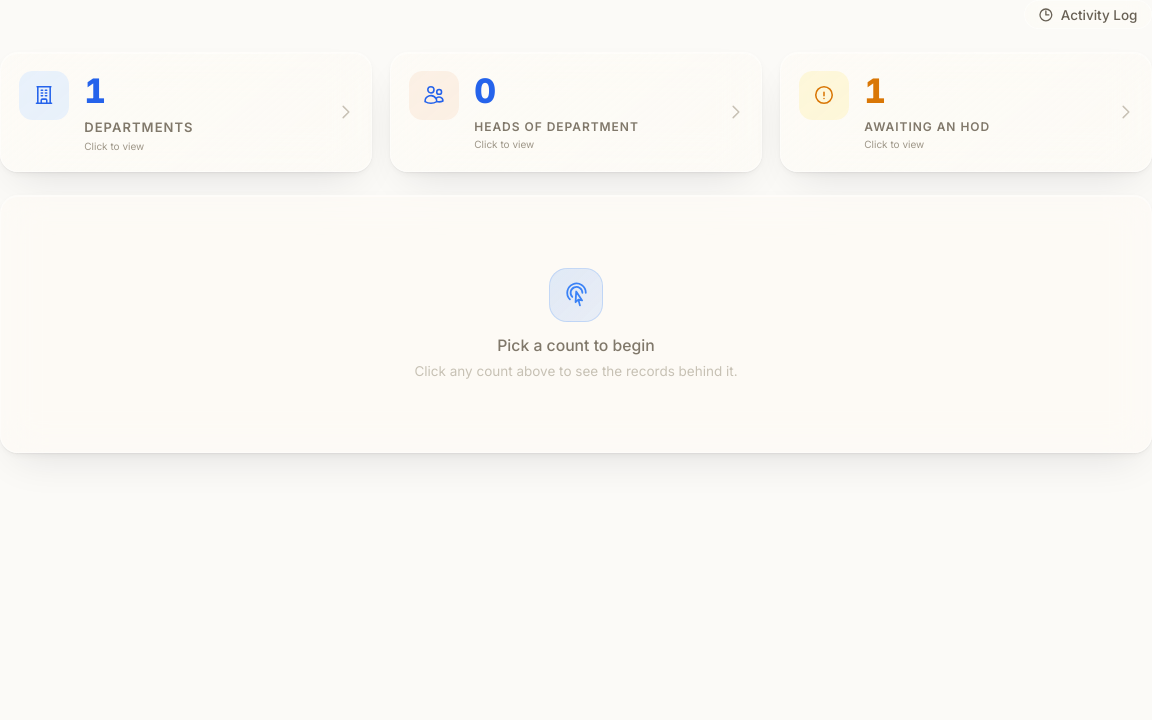
Test: delete department â€” confirmed › reports success in a status banner naming the department
Step 1. Click the button "1 Departments Click to view" → (44, 95), box 0,52 -> 372,172
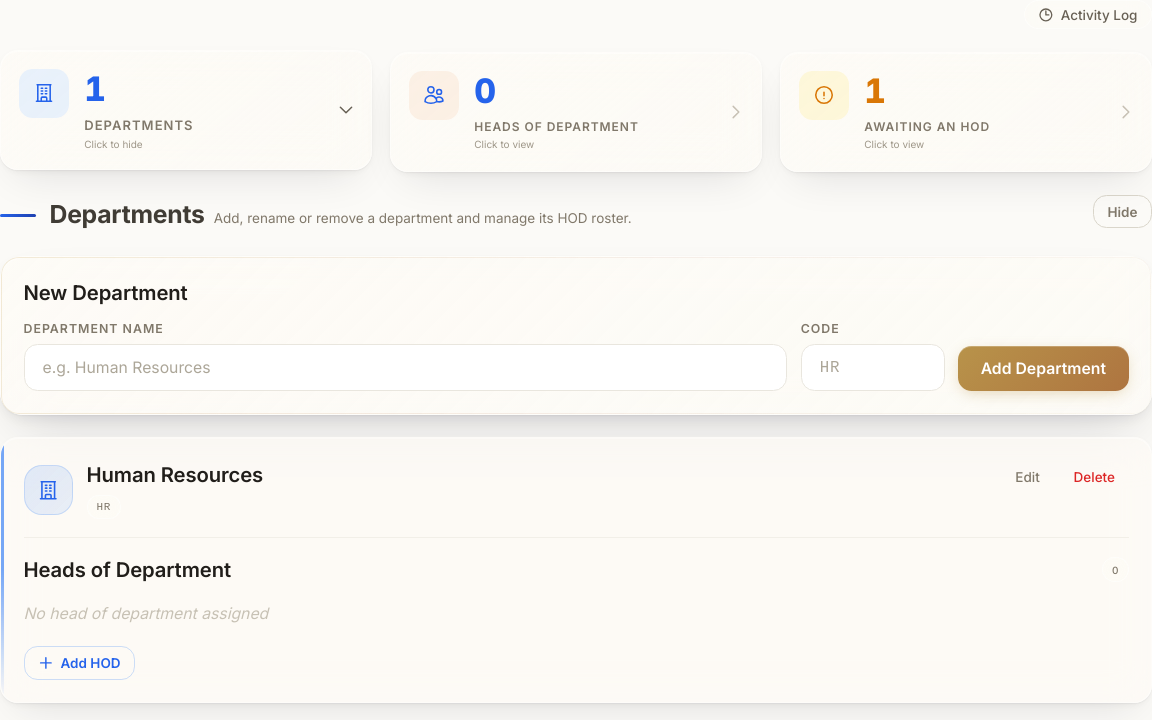
Step 2. Click the button with aria-label "delete human resources" → (1094, 477), box 1060,461 -> 1128,492
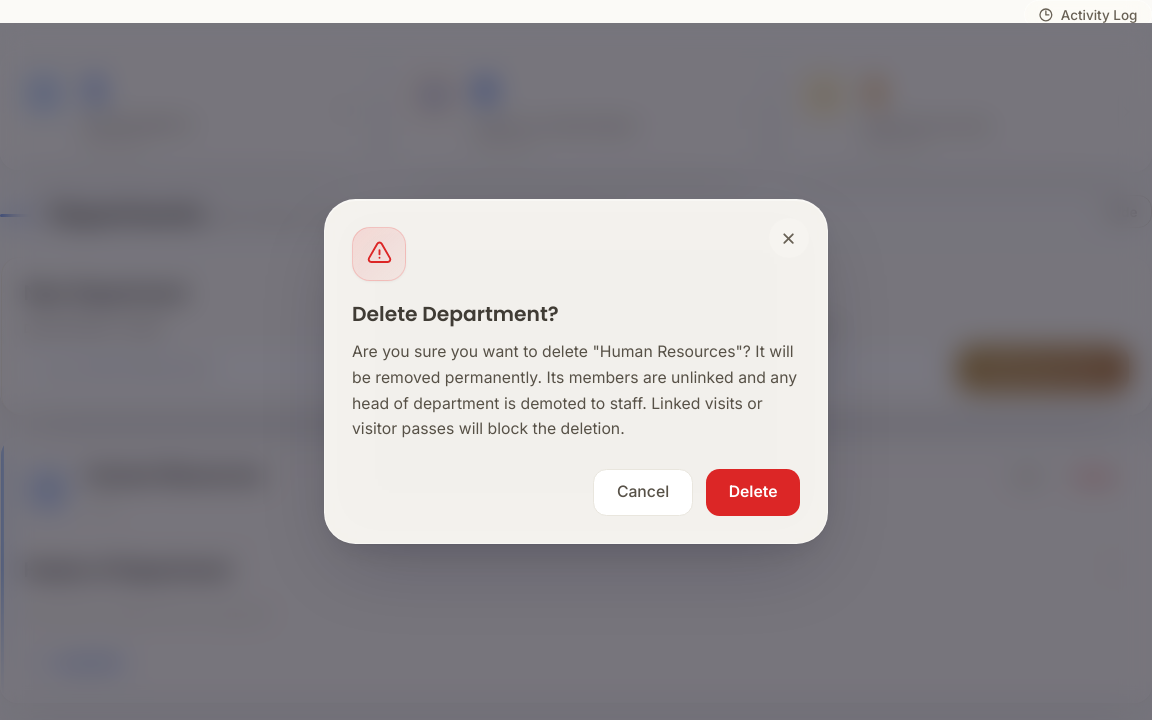
Step 3. Click the button "Delete" → (753, 492), box 706,469 -> 800,516
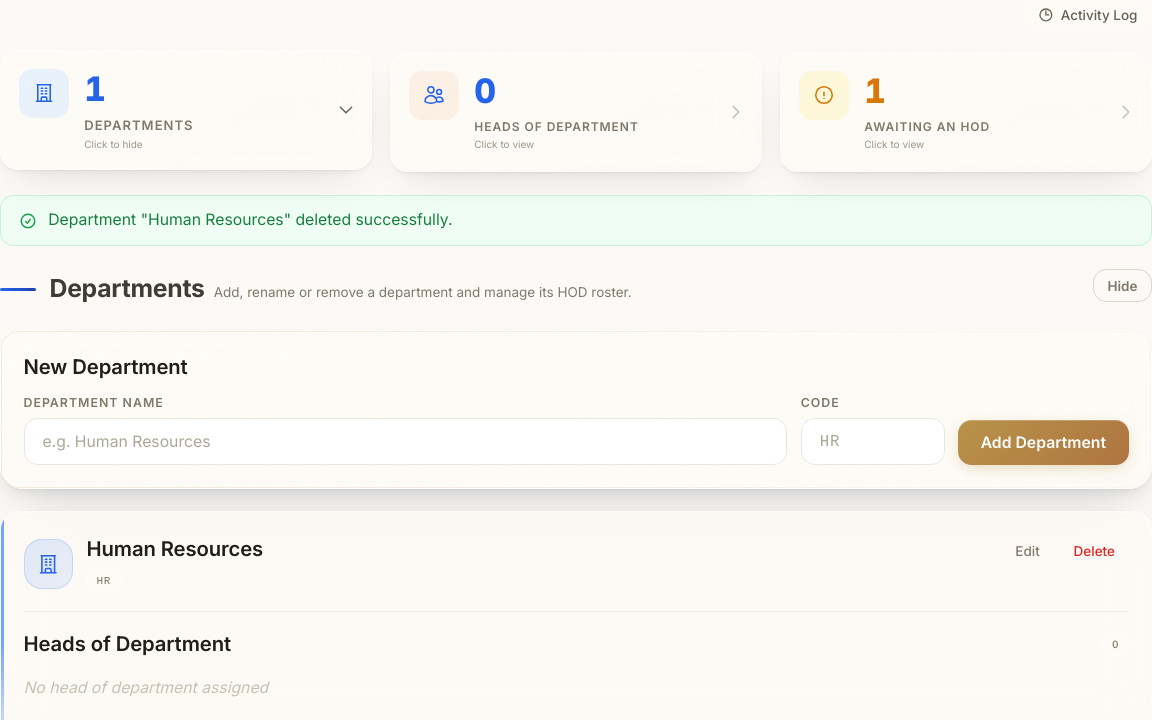
Expected: the message shows "Human Resources", 48,210 -> 453,229
Expected: the message shows "deleted successfully", 48,210 -> 453,229
